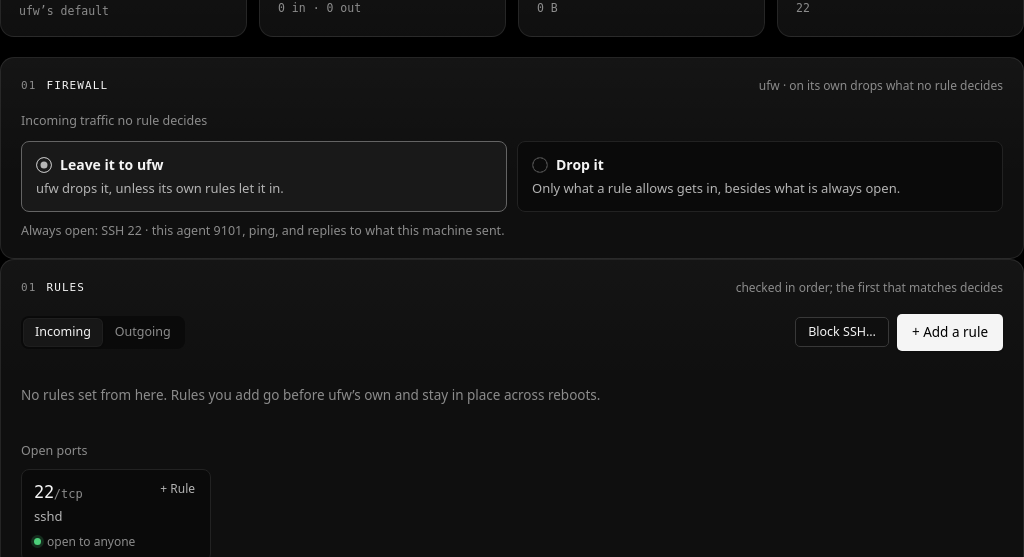
Test: Firewall manager › offers Secure: SSH… (Block SSH) and, on a server, Agent (only Nightjar on the agent port)
Click the button "+ Add a rule" at (950, 332), box [897, 314, 1003, 351]
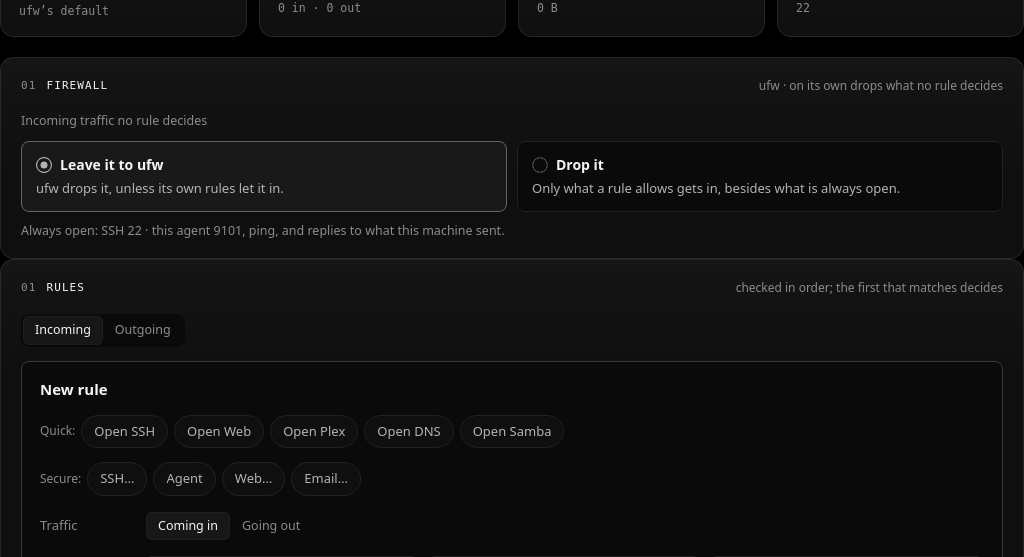
Click the button "Agent" at (185, 479), box [153, 462, 216, 496]
(page scrolled)
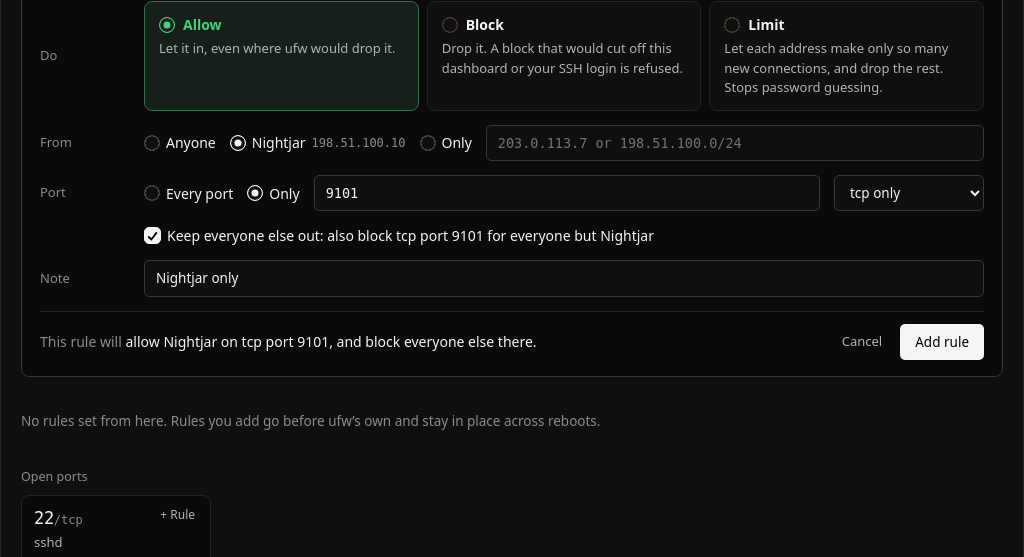
Expected: the field named "Port" holds "9101", [314, 175, 820, 211]
Expected: the radio button labelled "Nightjar 198.51.100.10" is checked, [230, 135, 246, 151]
Expected: the checkbox labelled "Keep everyone else out" is checked, [144, 227, 161, 244]
Click the submit button at (942, 342), box [900, 324, 984, 360]
(page scrolled)
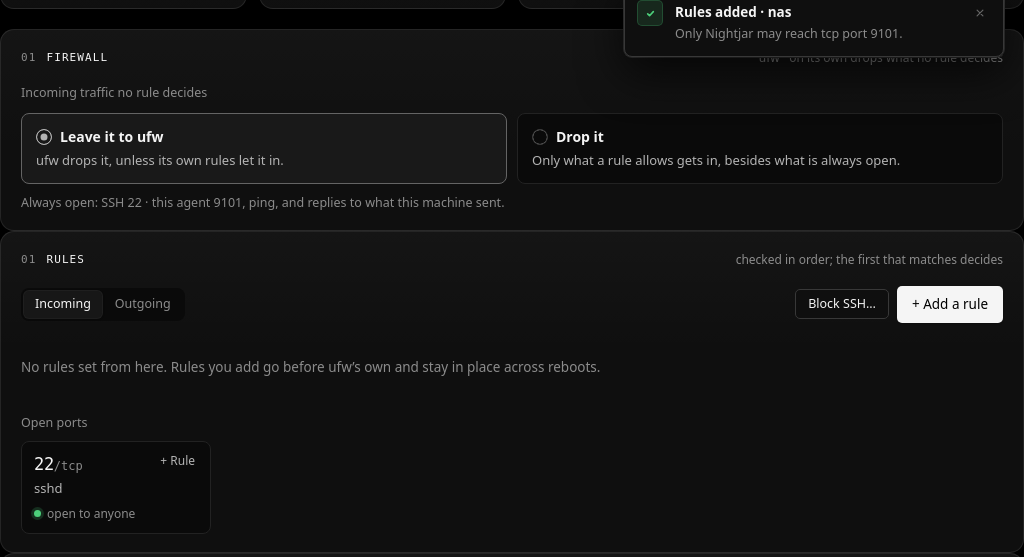
Click the button "+ Add a rule" at (950, 304), box [897, 286, 1003, 323]
(page scrolled)
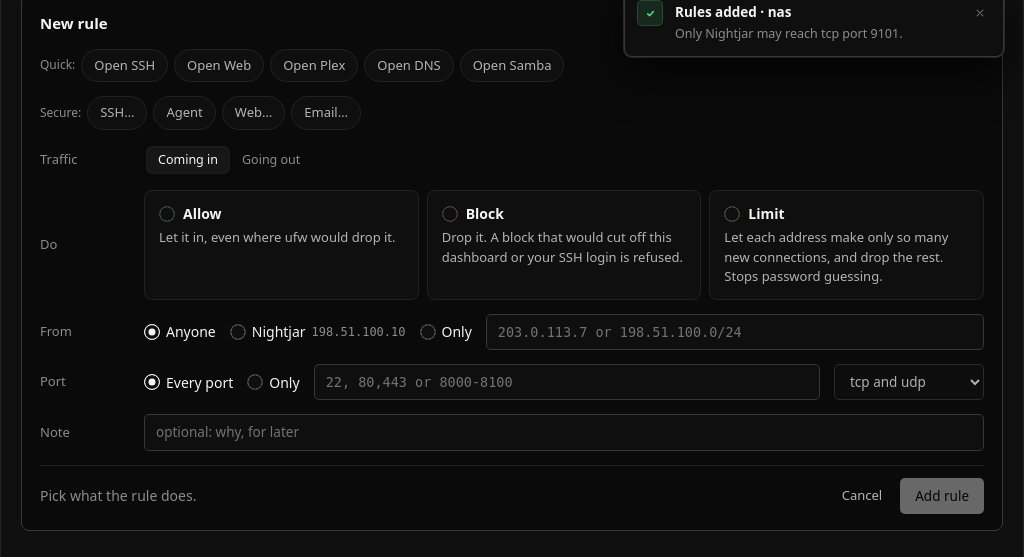
Click the button "SSH…" at (117, 113), box [87, 96, 147, 130]
(page scrolled)
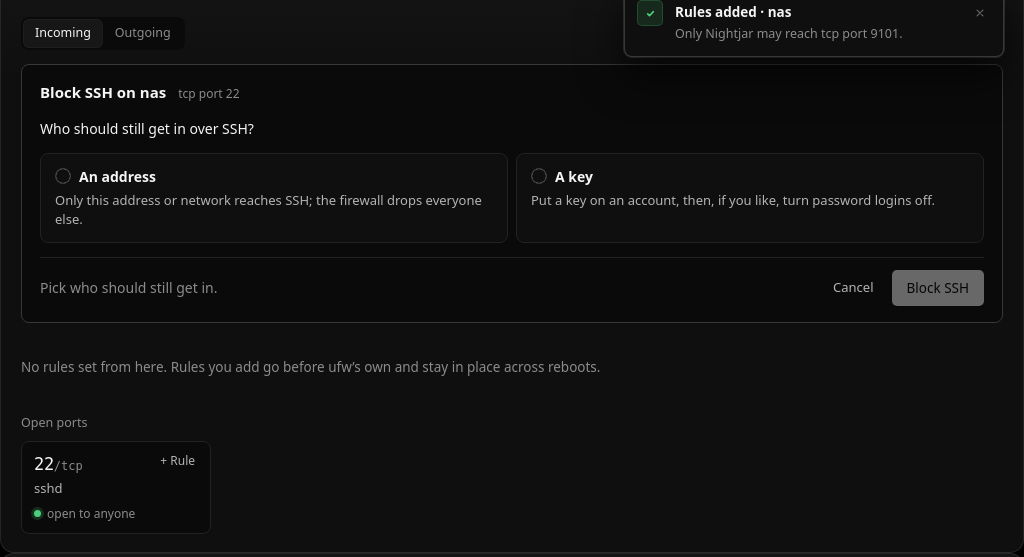
Expected: the text "Who should still get in over SSH?" is shown, [40, 119, 254, 138]
